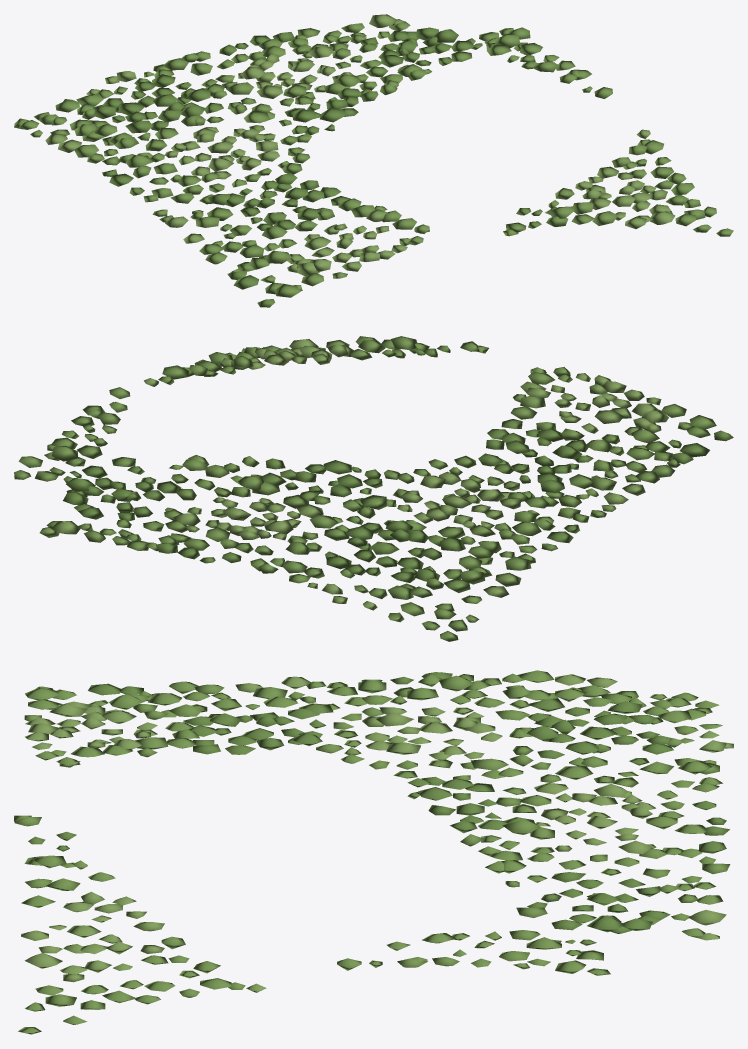
File: canopy-1-2--4.glb
3 renders of one model, top to bottom at view 1: azimuth 30°, elevation 25°; view 2: azimuth 150°, elevation 25°; view 3: azimuth 270°, elevation 25°, orthographic. The views are drawn at different scales.
Size of the model in its own units: 512 by 75 by 512.
Materials: 1 (1 with a texture image).
